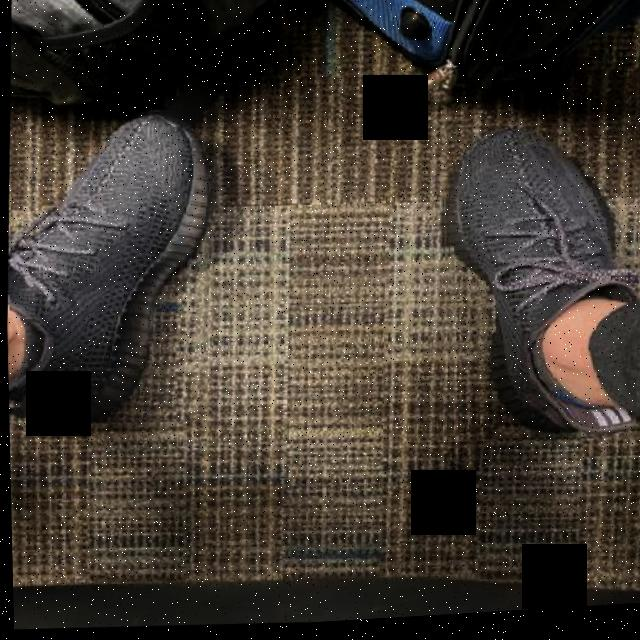shoe: (2, 101, 223, 432), (430, 120, 640, 454)
